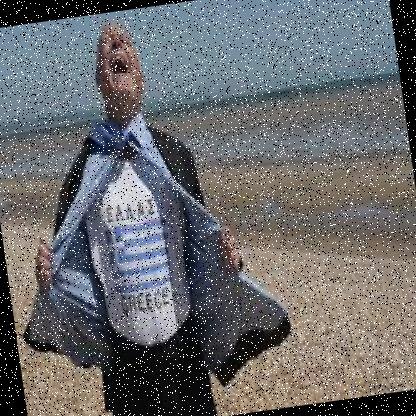gr: (105, 221, 174, 296)
